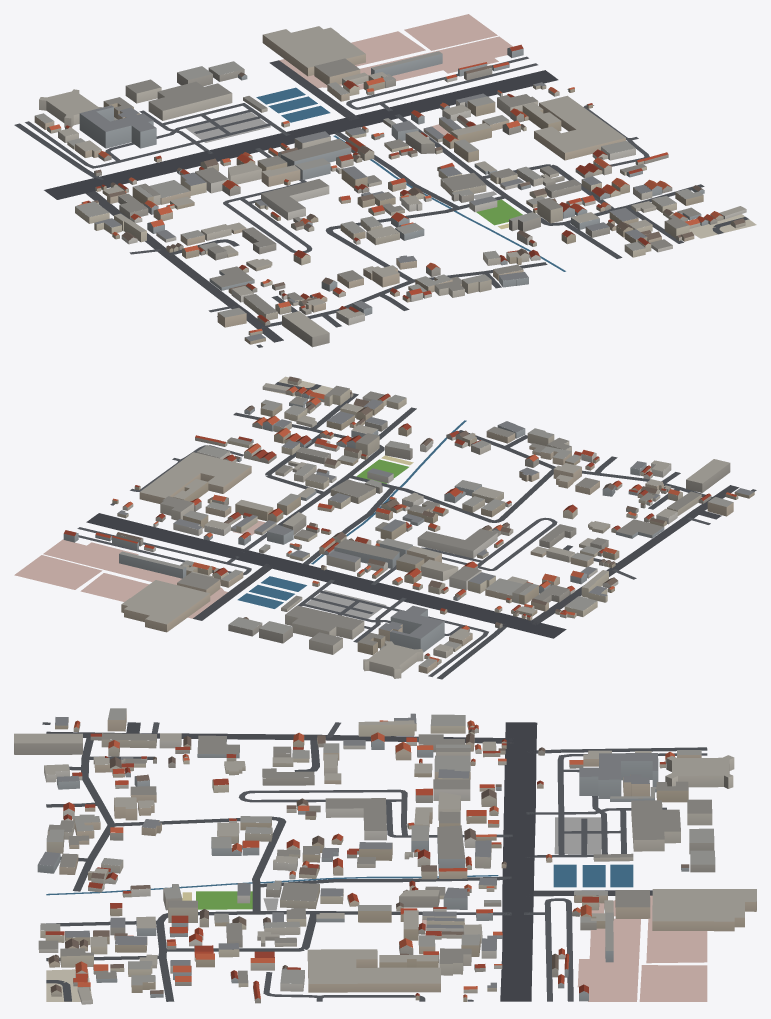
3 renders of one model, top to bottom at view 1: azimuth 30°, elevation 25°; view 2: azimuth 150°, elevation 25°; view 3: azimuth 270°, elevation 25°, orthographic. The views are drawn at different scales.
Parts seen in each view (by area): view 1: buildings_roofs, buildings_walls, roads, landuse, water; view 2: buildings_roofs, buildings_walls, roads, landuse, water; view 3: buildings_roofs, buildings_walls, roads, landuse, water.
Boxes of the visible parts, left/top/right/bottom form: buildings_roofs: left=35, top=26, right=745, bottom=341; buildings_walls: left=34, top=35, right=746, bottom=347; roads: left=14, top=56, right=748, bottom=347; landuse: left=185, top=14, right=756, bottom=238; water: left=256, top=87, right=565, bottom=271; buildings_roofs: left=64, top=376, right=754, bottom=669; buildings_walls: left=63, top=379, right=754, bottom=678; roads: left=77, top=382, right=756, bottom=679; landuse: left=14, top=376, right=413, bottom=618; water: left=237, top=420, right=466, bottom=608; buildings_roofs: left=14, top=708, right=756, bottom=1000; buildings_walls: left=14, top=711, right=756, bottom=1004; roads: left=42, top=722, right=707, bottom=1001; landuse: left=46, top=817, right=707, bottom=1001; water: left=46, top=864, right=633, bottom=895.
Bounding box in the file's own units: 510 × 15.99 × 562.
